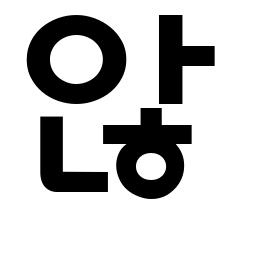Gaji: (147, 36, 196, 80)
